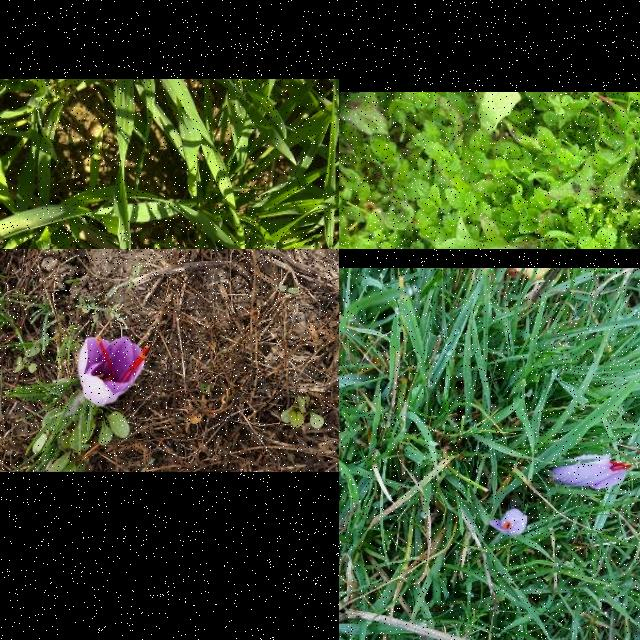flower: (78, 335, 150, 407), (552, 453, 634, 491), (488, 508, 528, 538)
